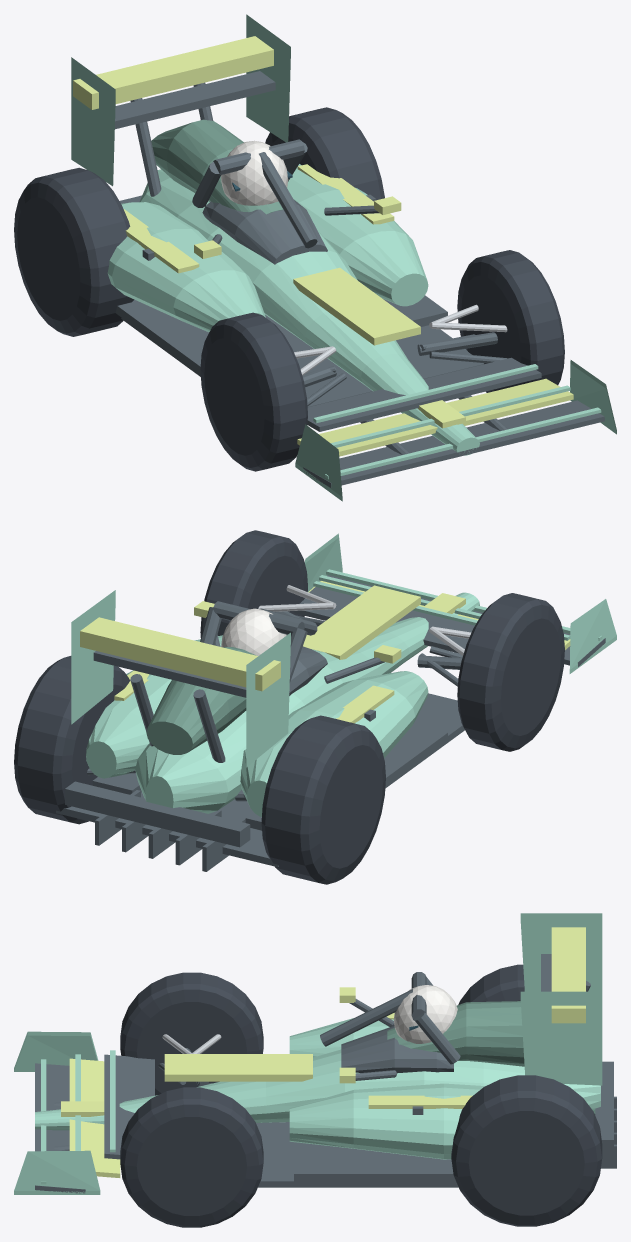
Rendered from aston_high.glb.
3 renders of one model, top to bottom at view 1: azimuth 30°, elevation 25°; view 2: azimuth 150°, elevation 25°; view 3: azimuth 270°, elevation 25°, orthographic. The views are drawn at different scales.
Visible parts, largest first — view 1: BODY_paint, BODY_carbon, BODY_accent, RearLeftWheel_rubber, FrontLeftWheel_rubber, FrontRightWheel_rubber, RearRightWheel_rubber, BODY_paint_dark, BODY_helmet, BODY_metal; view 2: BODY_paint, BODY_carbon, RearLeftWheel_rubber, BODY_accent, FrontLeftWheel_rubber, RearRightWheel_rubber, FrontRightWheel_rubber, BODY_paint_dark, BODY_helmet, BODY_metal; view 3: BODY_paint, BODY_carbon, RearRightWheel_rubber, FrontRightWheel_rubber, BODY_accent, FrontLeftWheel_rubber, BODY_paint_dark, BODY_helmet, RearLeftWheel_rubber.
Boxes of the visible parts, bbox=[...] form: BODY_paint: bbox=[71, 14, 616, 501]; BODY_carbon: bbox=[115, 71, 604, 487]; BODY_accent: bbox=[73, 36, 573, 456]; RearLeftWheel_rubber: bbox=[14, 167, 134, 336]; FrontLeftWheel_rubber: bbox=[200, 312, 307, 471]; FrontRightWheel_rubber: bbox=[457, 250, 564, 392]; RearRightWheel_rubber: bbox=[265, 107, 384, 200]; BODY_paint_dark: bbox=[151, 119, 283, 214]; BODY_helmet: bbox=[221, 140, 288, 205]; BODY_metal: bbox=[294, 304, 507, 375]; BODY_paint: bbox=[71, 533, 616, 816]; BODY_carbon: bbox=[56, 575, 605, 871]; RearLeftWheel_rubber: bbox=[261, 715, 385, 884]; BODY_accent: bbox=[80, 581, 570, 723]; FrontLeftWheel_rubber: bbox=[457, 593, 564, 751]; RearRightWheel_rubber: bbox=[14, 656, 130, 824]; FrontRightWheel_rubber: bbox=[200, 530, 307, 637]; BODY_paint_dark: bbox=[146, 647, 256, 754]; BODY_helmet: bbox=[221, 608, 286, 655]; BODY_metal: bbox=[258, 585, 471, 655]; BODY_paint: bbox=[14, 913, 602, 1194]; BODY_carbon: bbox=[35, 954, 616, 1193]; RearRightWheel_rubber: bbox=[451, 1075, 602, 1226]; FrontRightWheel_rubber: bbox=[120, 1087, 263, 1227]; BODY_accent: bbox=[61, 927, 585, 1177]; FrontLeftWheel_rubber: bbox=[120, 972, 263, 1095]; BODY_paint_dark: bbox=[387, 1001, 524, 1066]; BODY_helmet: bbox=[393, 985, 457, 1043]; RearLeftWheel_rubber: bbox=[458, 964, 524, 1004].
Bounding box in the file's own units: 2.59 × 1.9 × 4.88.
